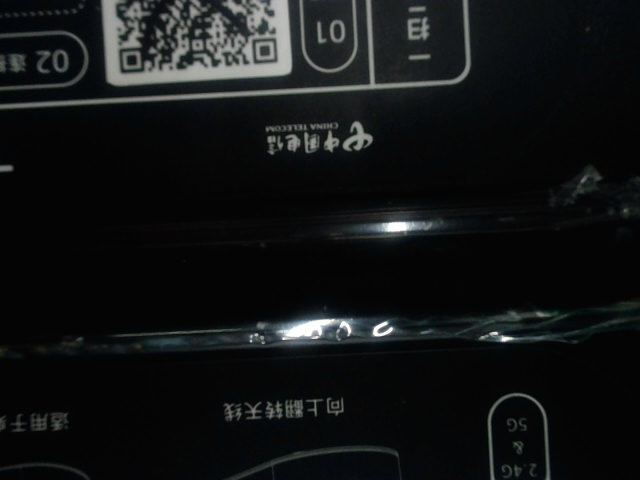AB_ChinaTelecom: (257, 108, 395, 162)
